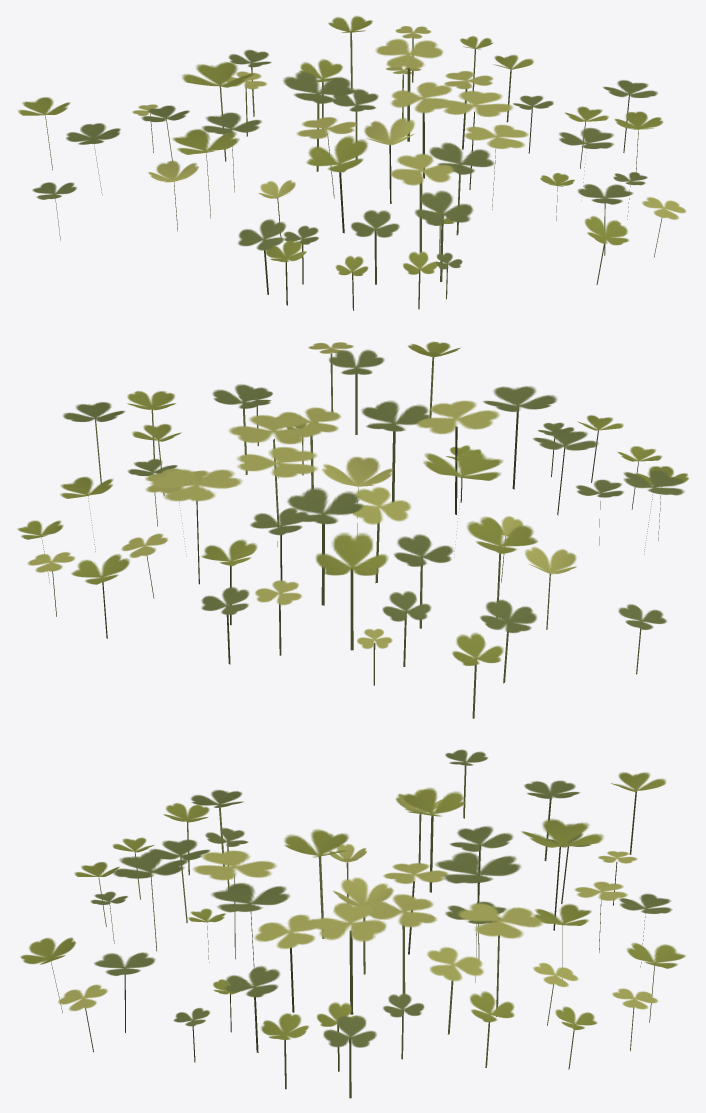
Rendered from Clover_2.glb.
3 views of the same model, one above another, from view 1: azimuth 30°, elevation 25°; view 2: azimuth 150°, elevation 25°; view 3: azimuth 270°, elevation 25° (orthographic). The views are drawn at different scales.
Parts seen in each view (by area): view 1: Clover_2; view 2: Clover_2; view 3: Clover_2.
Boxes of the visible parts, x1,y1,x2,y2 form: Clover_2: (18, 16, 686, 310); Clover_2: (17, 341, 688, 718); Clover_2: (20, 749, 685, 1098).
Bounding box in the file's own units: 1.74 × 0.2632 × 1.6.
Materials: 1 (1 with a texture image).
